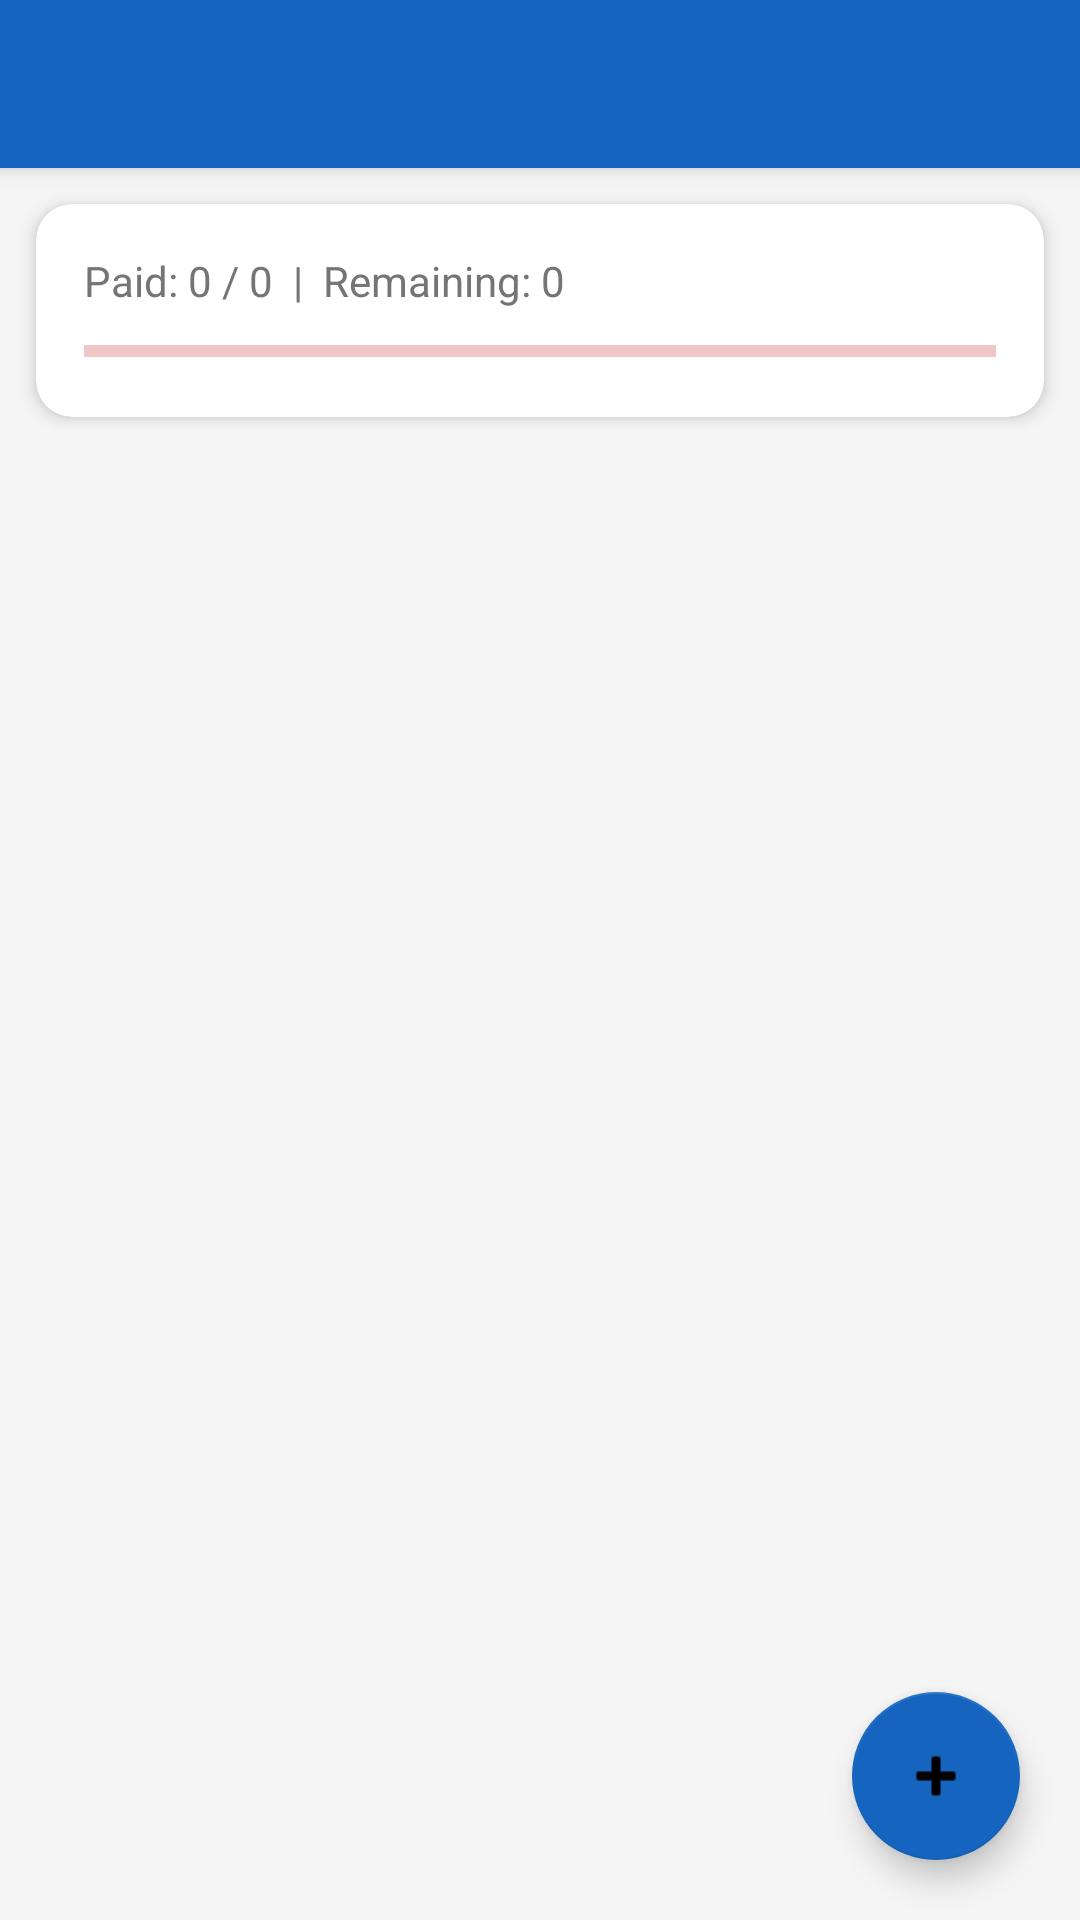

Point at icon controls on the screen. Image size 1080px x 1920px, points as (x,y).
Add Bill: (936,1776)
